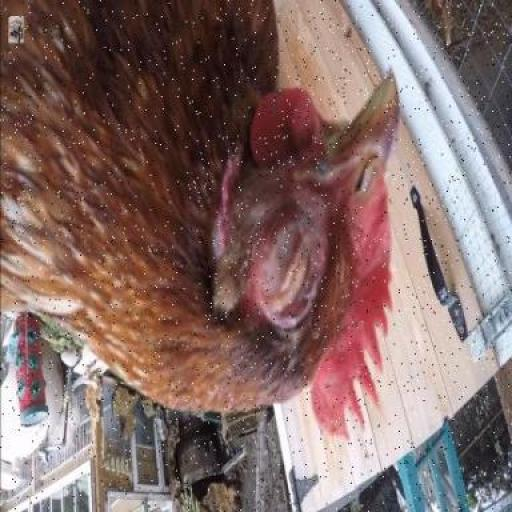disease: (215, 72, 393, 366)
